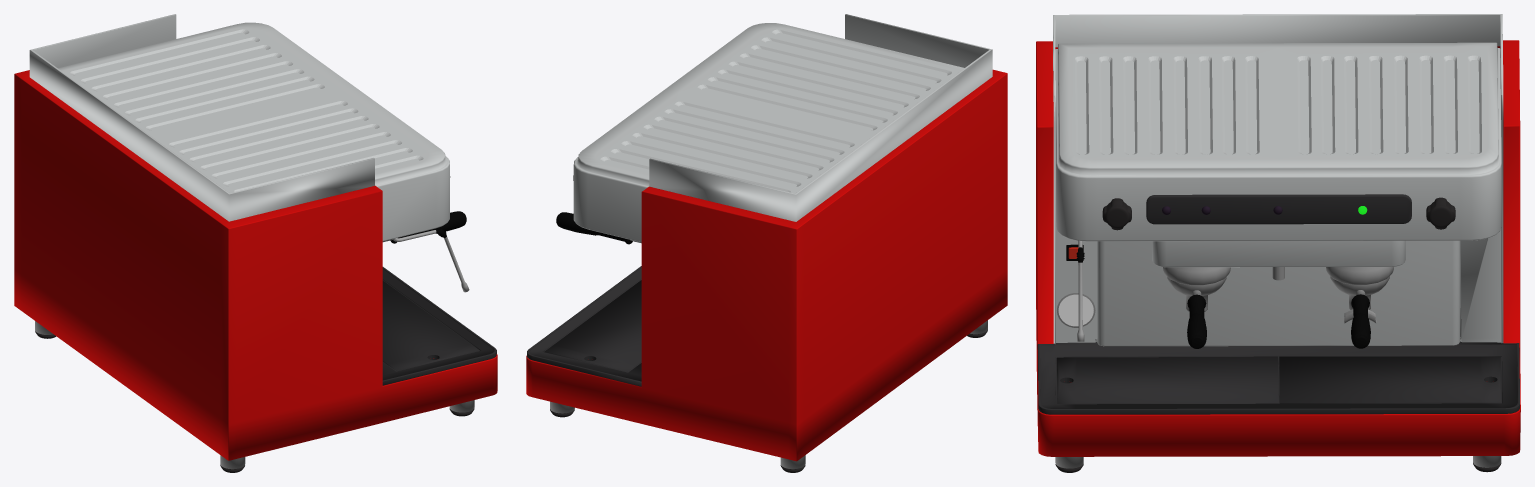
The model's file is coffee_machine.glb.
3 views of the same model, side by side, from view 1: azimuth 30°, elevation 25°; view 2: azimuth 150°, elevation 25°; view 3: azimuth 270°, elevation 25° (orthographic). The views are drawn at different scales.
Parts seen in each view (by area): view 1: Machine1-LOD, BezierCurve; view 2: Machine1-LOD; view 3: Machine1-LOD, BezierCurve.
Part boxes in pixels (left/top/right/bottom): Machine1-LOD: left=14, top=14, right=497, bottom=472; BezierCurve: left=392, top=229, right=469, bottom=292; Machine1-LOD: left=526, top=14, right=1007, bottom=472; Machine1-LOD: left=1036, top=14, right=1520, bottom=472; BezierCurve: left=1076, top=240, right=1084, bottom=341.
Size of the model in its own units: 0.6124 by 0.5356 by 0.7338.
12 materials, 2 textured.
